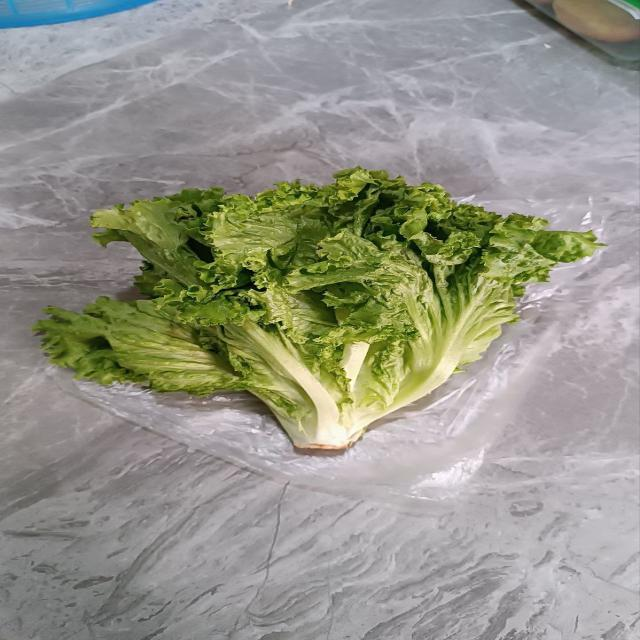Lettuce-Ready-to-Harvest: (36, 177, 580, 451)
